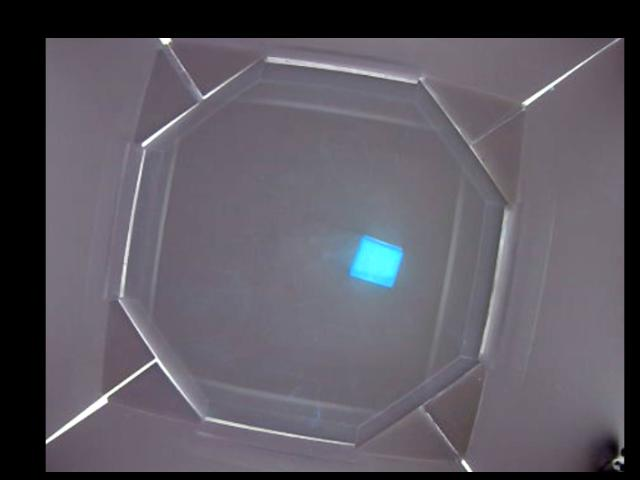Carrot: (350, 236, 401, 287)
